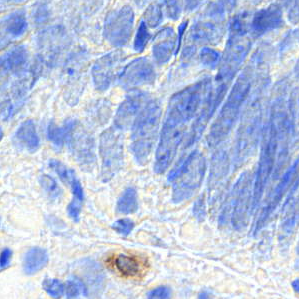Lymphocyte: (105, 246, 149, 278)
